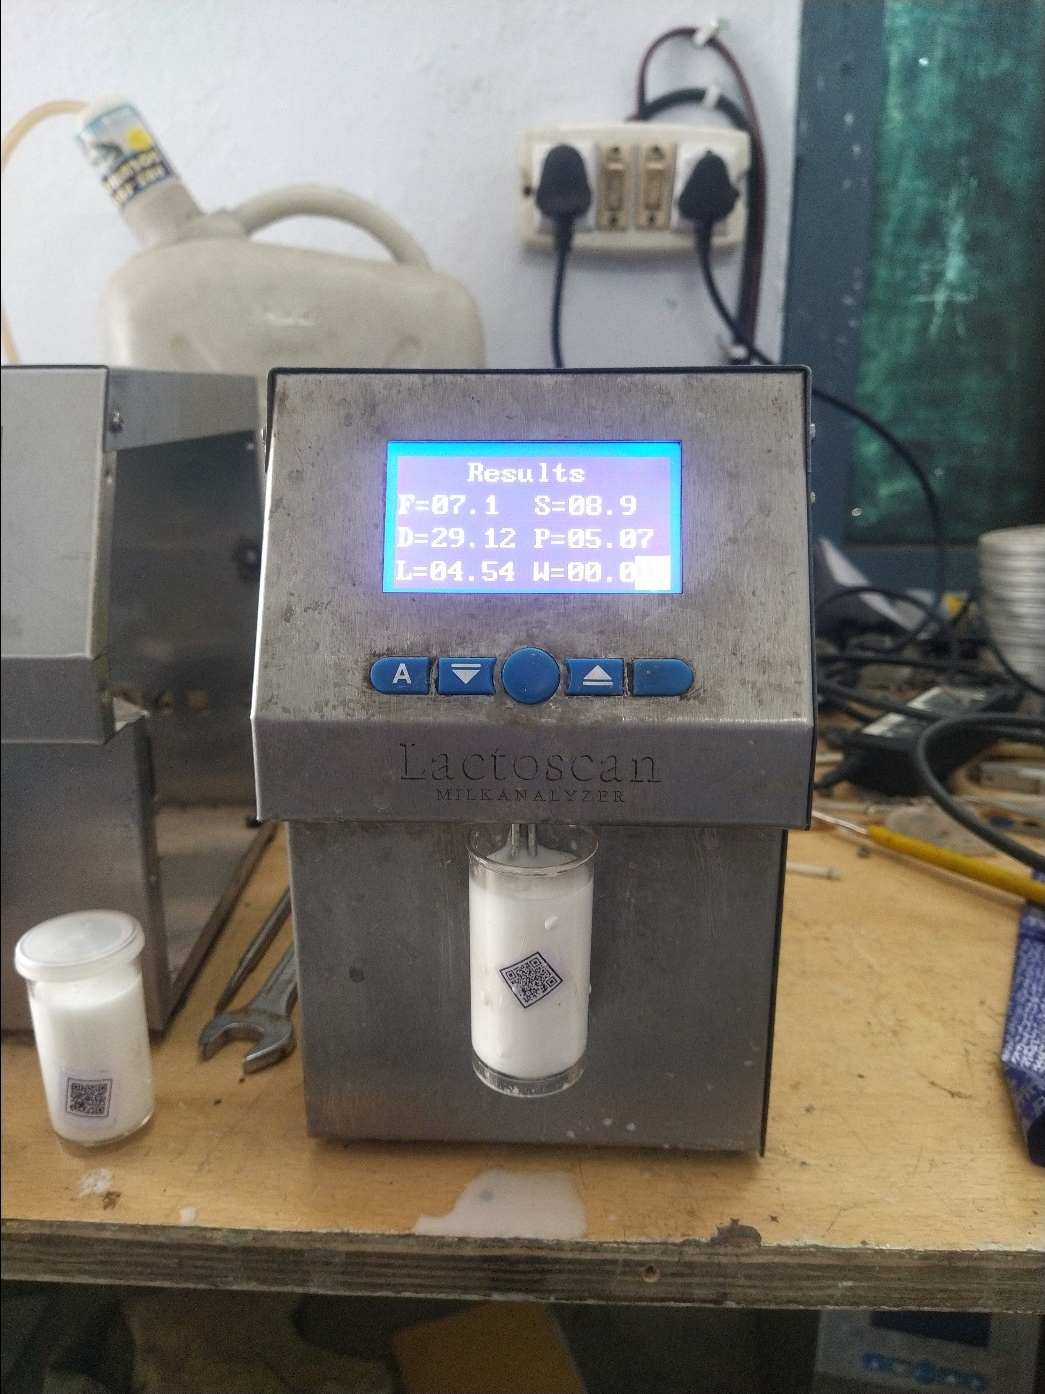lcd: (381, 435, 685, 603)
qr: (485, 952, 577, 1020), (50, 1077, 113, 1120)
